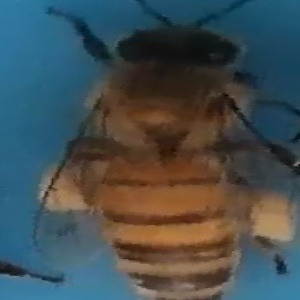bee: (30, 1, 300, 299)
